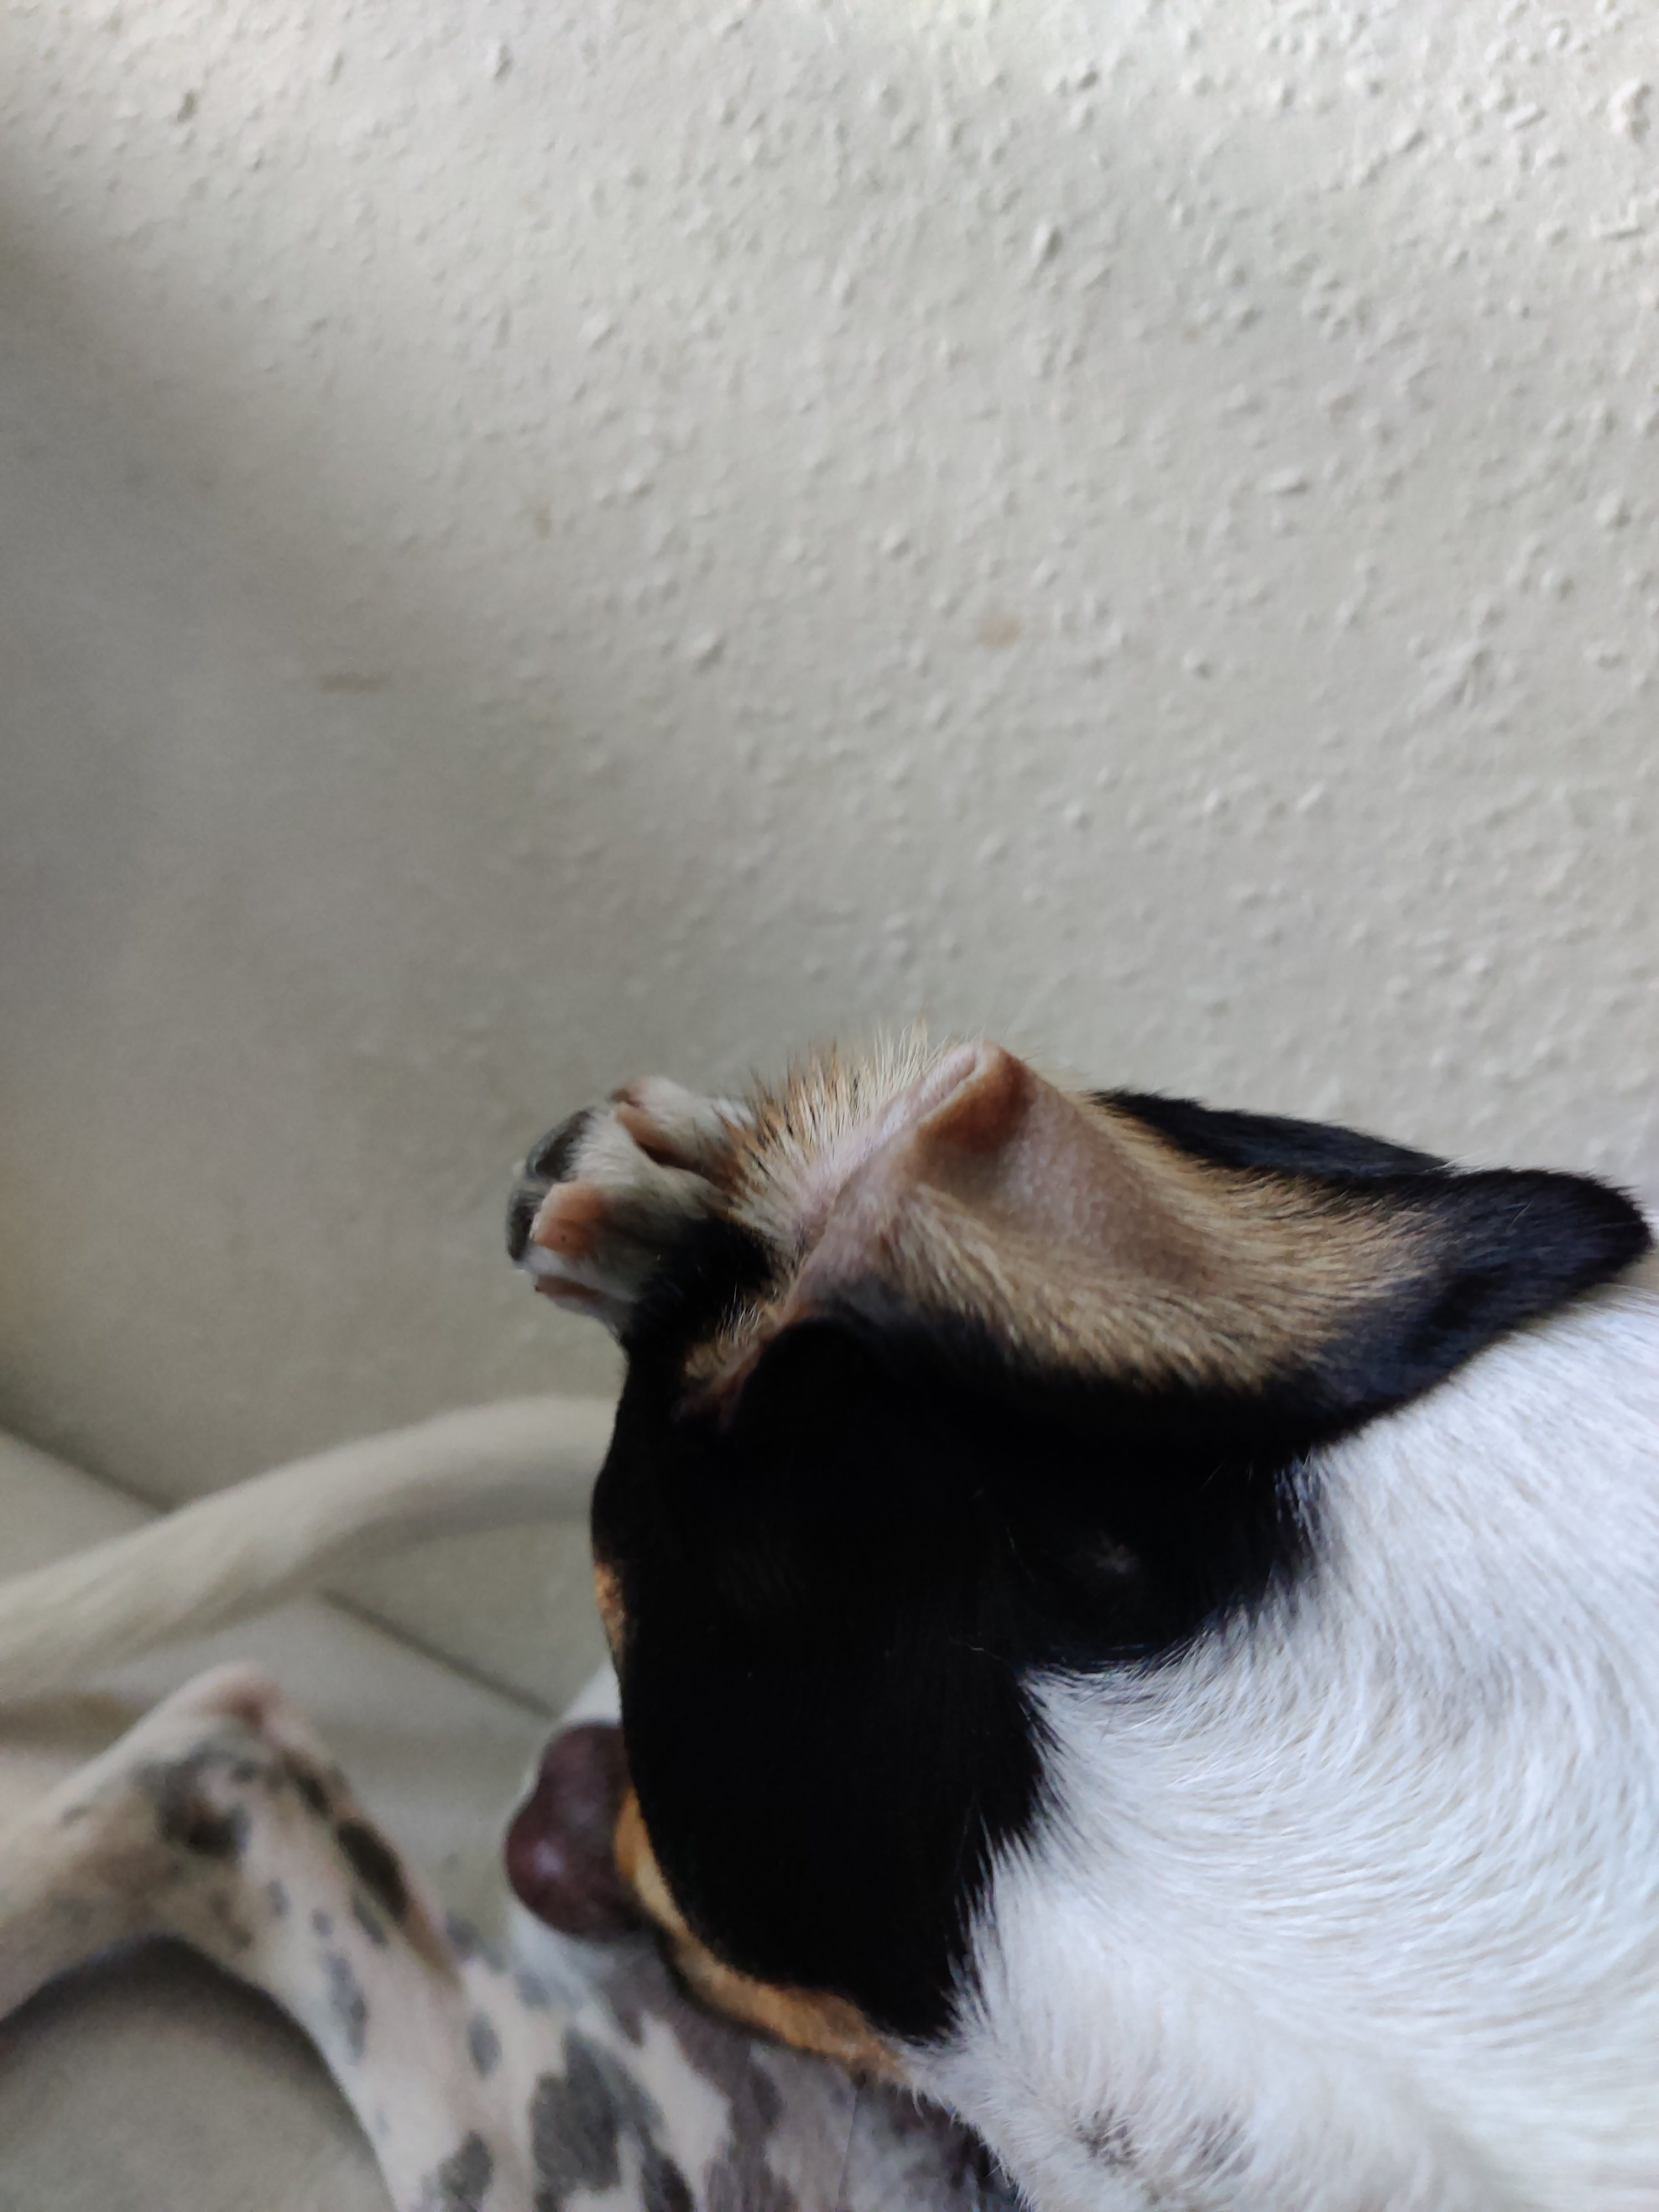Dog: (0, 1000, 1659, 2212)
